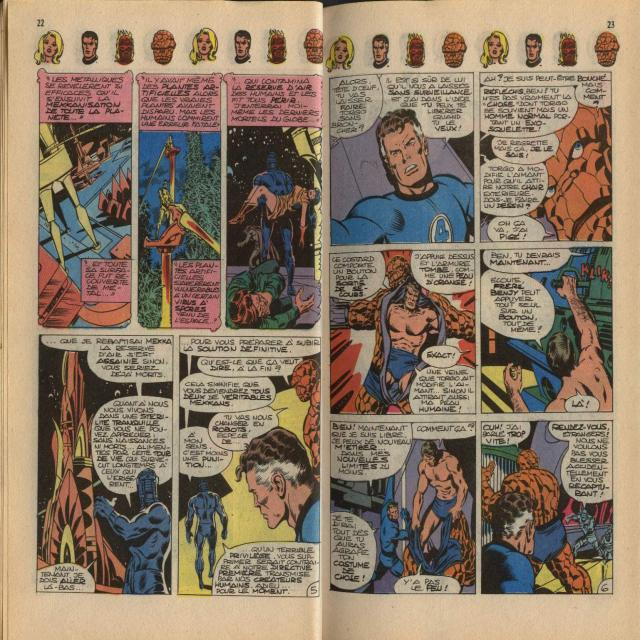comic_panel: (175, 330, 323, 600), (35, 331, 174, 599), (329, 416, 478, 598), (328, 70, 477, 249), (35, 68, 134, 331), (226, 69, 324, 334), (328, 248, 478, 417), (479, 419, 616, 597), (477, 70, 615, 244), (134, 70, 223, 333), (478, 247, 616, 416)
